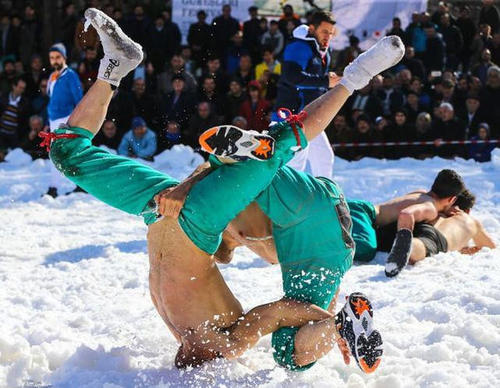10+: (2, 1, 498, 378)
down: (35, 5, 410, 380), (148, 102, 398, 379), (344, 161, 470, 271), (378, 177, 498, 285)
